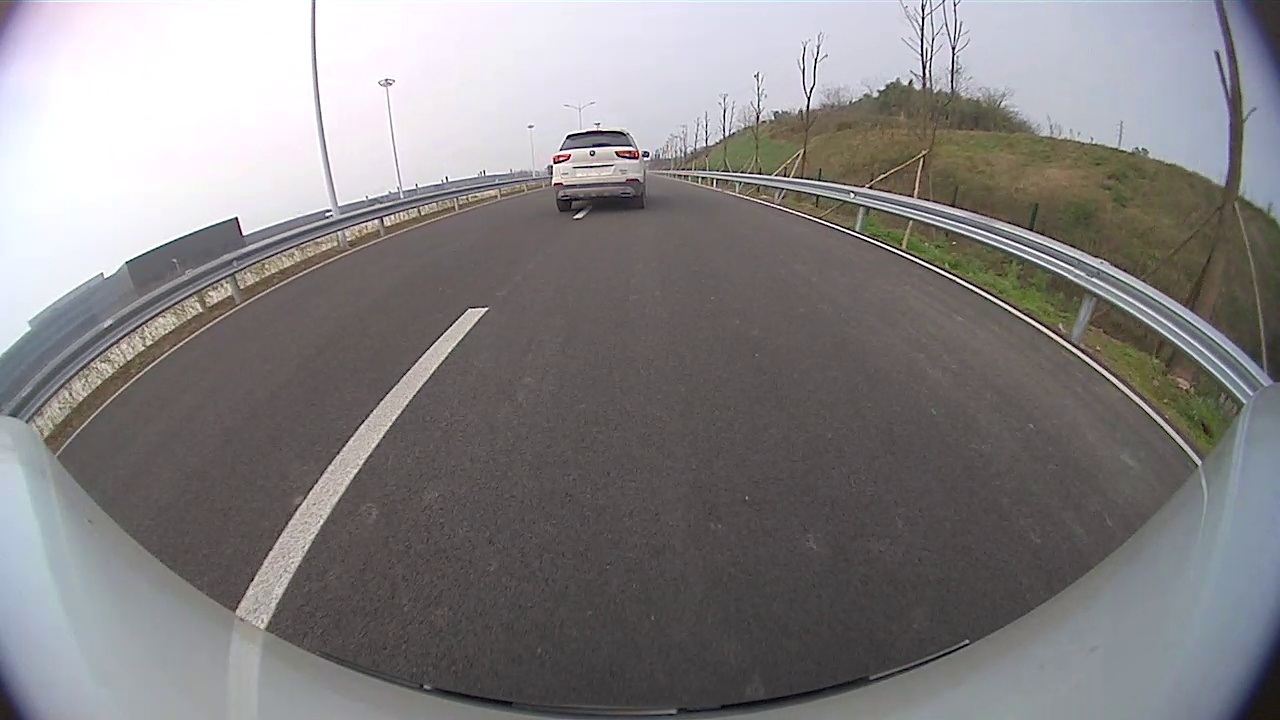car: (551, 129, 650, 215)
